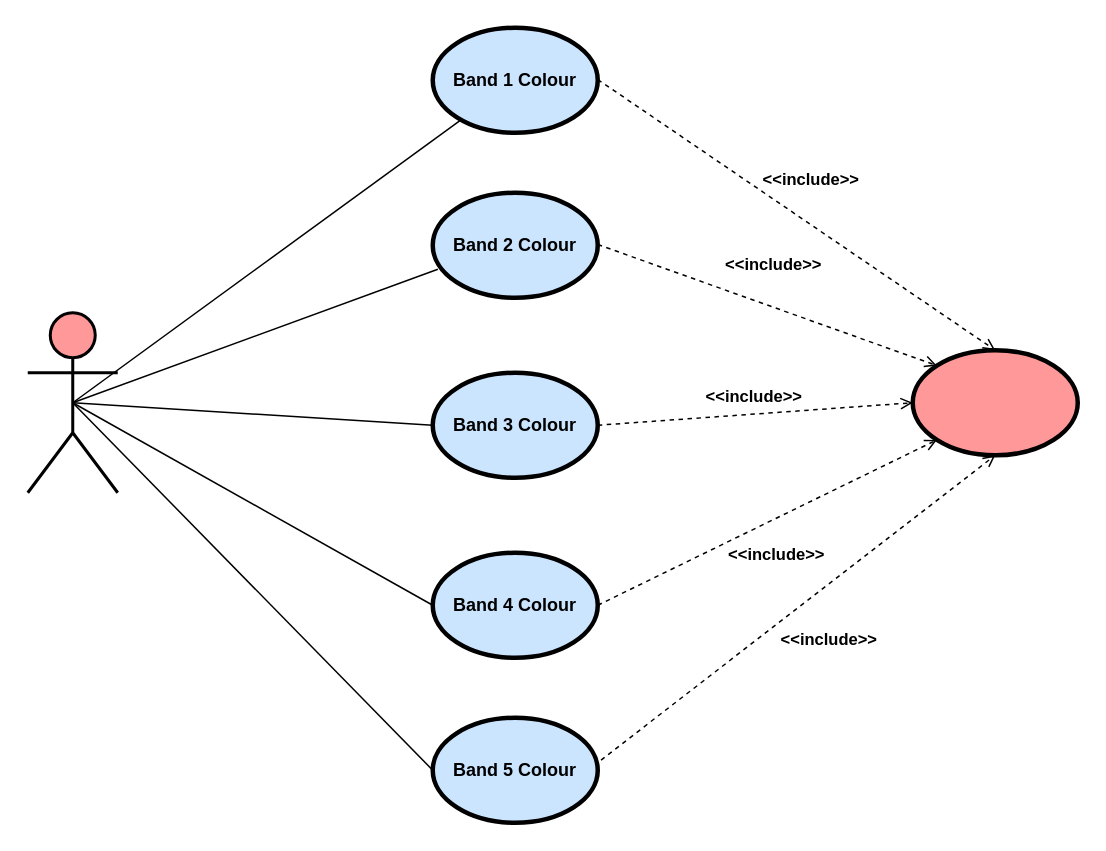
The diagram is 1106 pixels wide and 851 high, and some of its shapes have lost their labels. The centre of each missing label's shape, as x and y in pixels:
Resistance calculator: point (994, 402)
User: point (72, 402)
